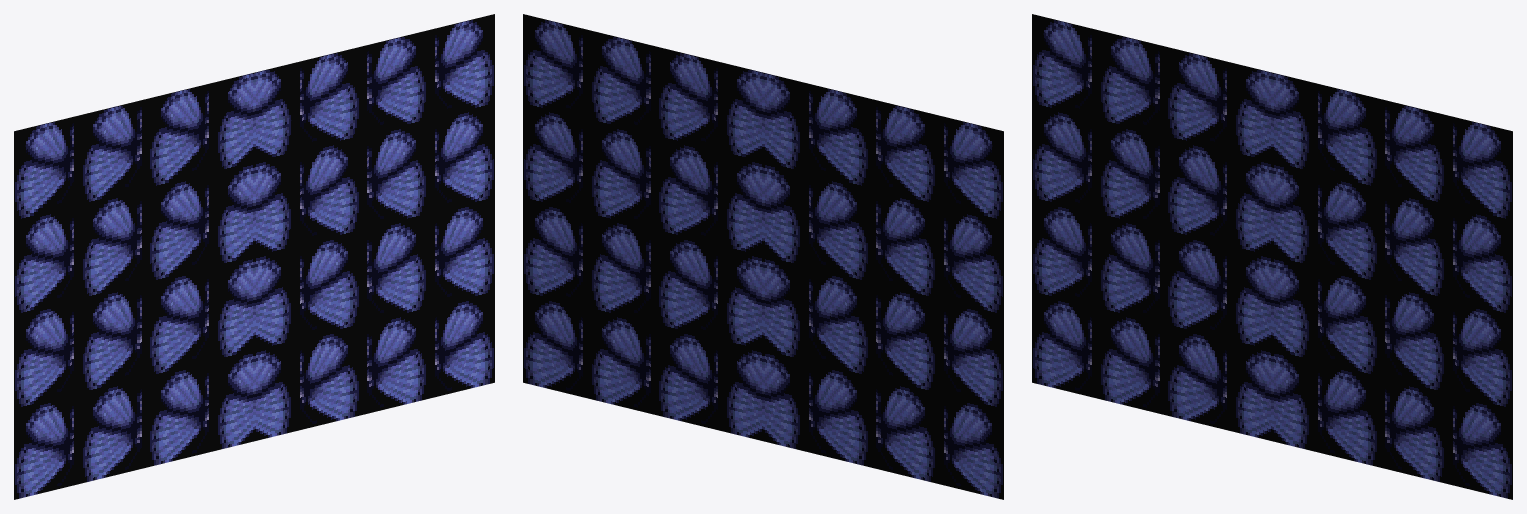
File: 4996musi06_e.gltf
3 renders of one model, left to right at view 1: azimuth 30°, elevation 25°; view 2: azimuth 150°, elevation 25°; view 3: azimuth 330°, elevation 25°, orthographic.
Visible parts, largest first — view 1: 4996musi06_e; view 2: 4996musi06_e; view 3: 4996musi06_e.
Part boxes in pixels (x1,y1,x2,y2): 4996musi06_e: (14, 14, 494, 499); 4996musi06_e: (523, 14, 1003, 499); 4996musi06_e: (1032, 14, 1512, 499).
Size of the model in its own units: 0.2822 by 0.2068 by 0.
Materials: 1 (1 with a texture image).
